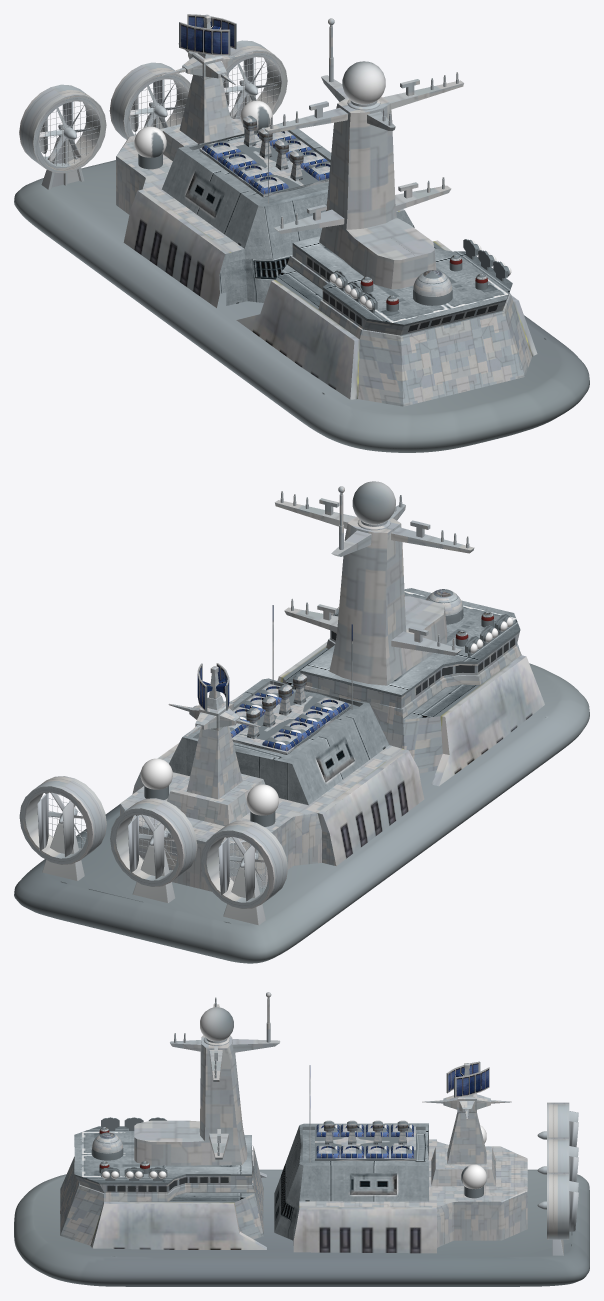
The model's file is qi_dian_chuan.glb.
3 renders of one model, top to bottom at view 1: azimuth 30°, elevation 25°; view 2: azimuth 150°, elevation 25°; view 3: azimuth 270°, elevation 25°, orthographic. The views are drawn at different scales.
Parts seen in each view (by area): view 1: Hovercraft; view 2: Hovercraft; view 3: Hovercraft.
Part boxes in pixels (x1,y1,x2,y2): Hovercraft: [14, 14, 589, 452]; Hovercraft: [14, 481, 589, 963]; Hovercraft: [14, 992, 589, 1286].
Size of the model in its own units: 29.7 by 33.33 by 70.11.
1 material, 1 textured.
